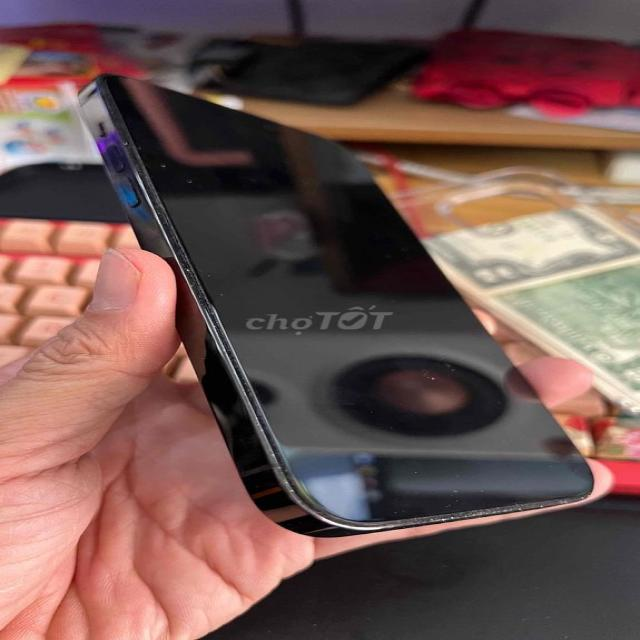scratch: (132, 158, 210, 321), (254, 406, 322, 537), (378, 497, 611, 534)
